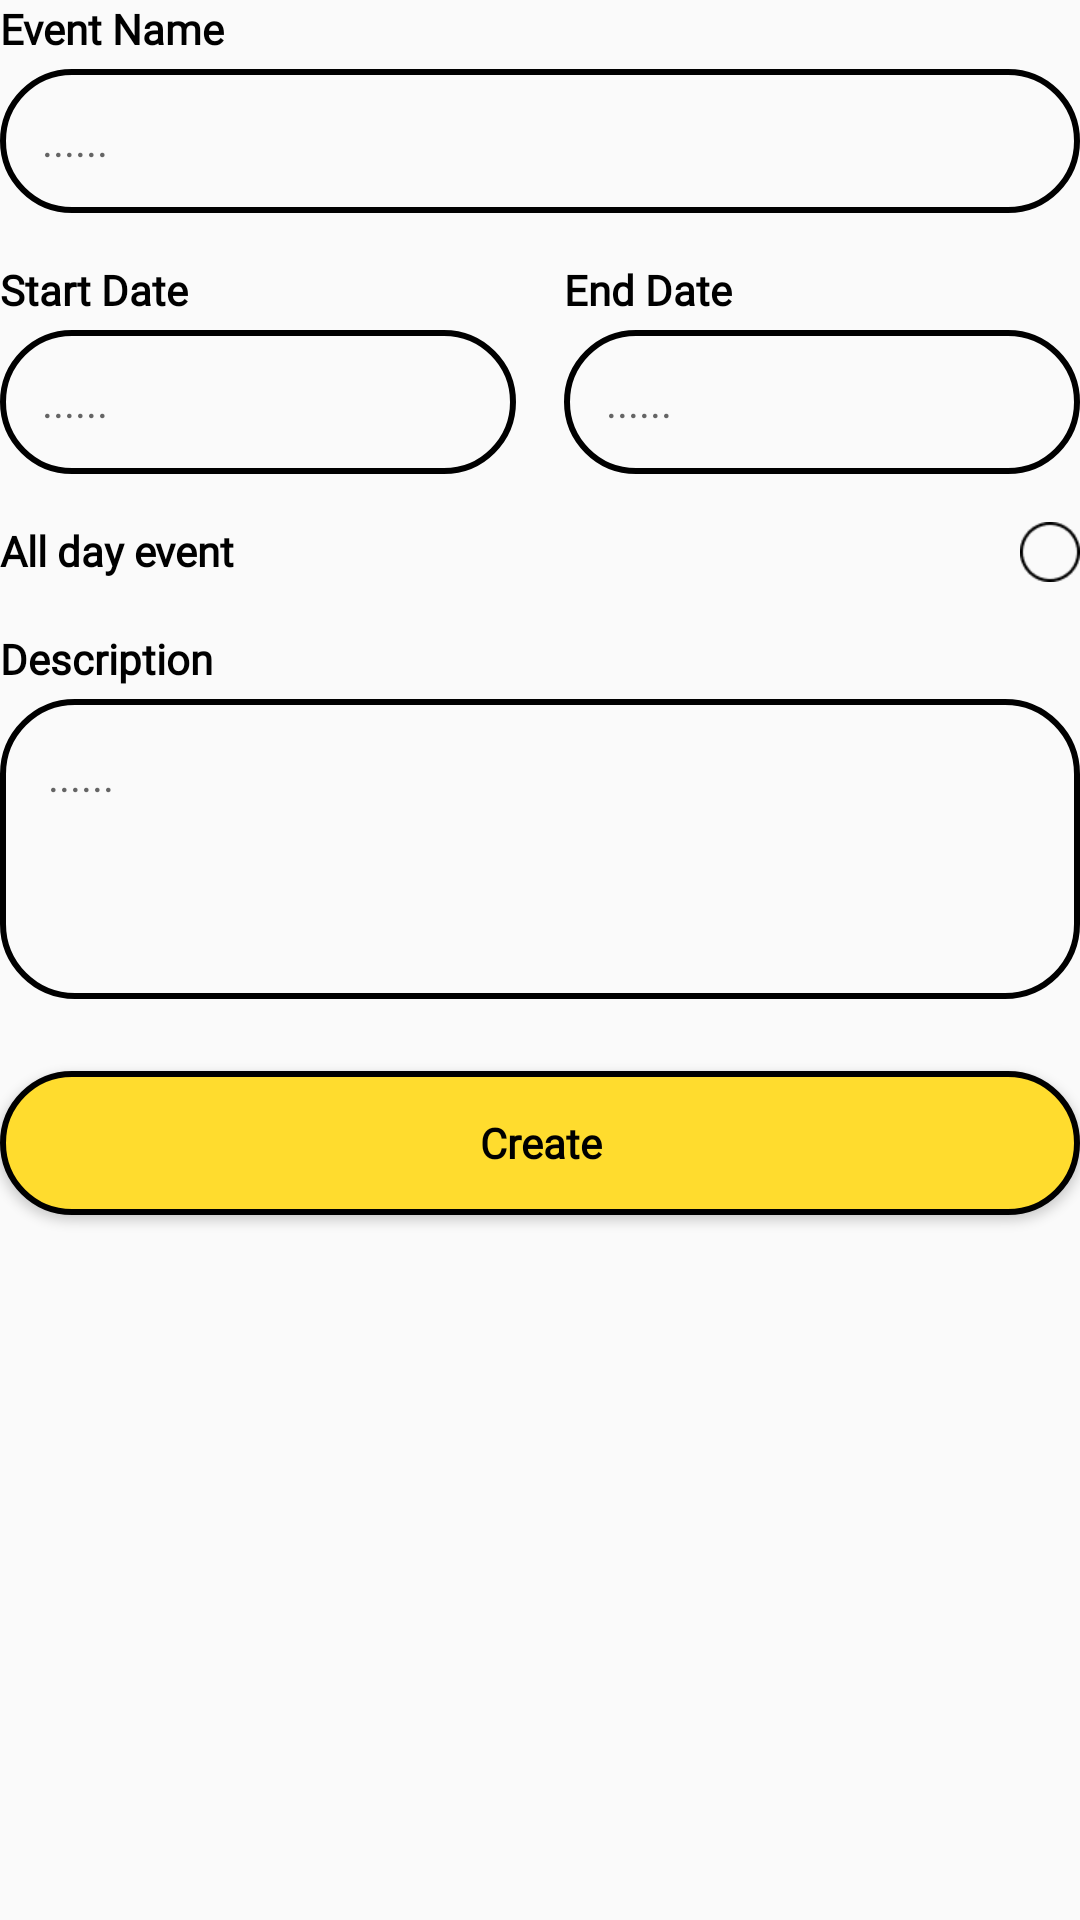

Named icons in this screenshot (1080 x 1920) and their centers, (x=x, y=y):
radio no select: (x=1050, y=552)
